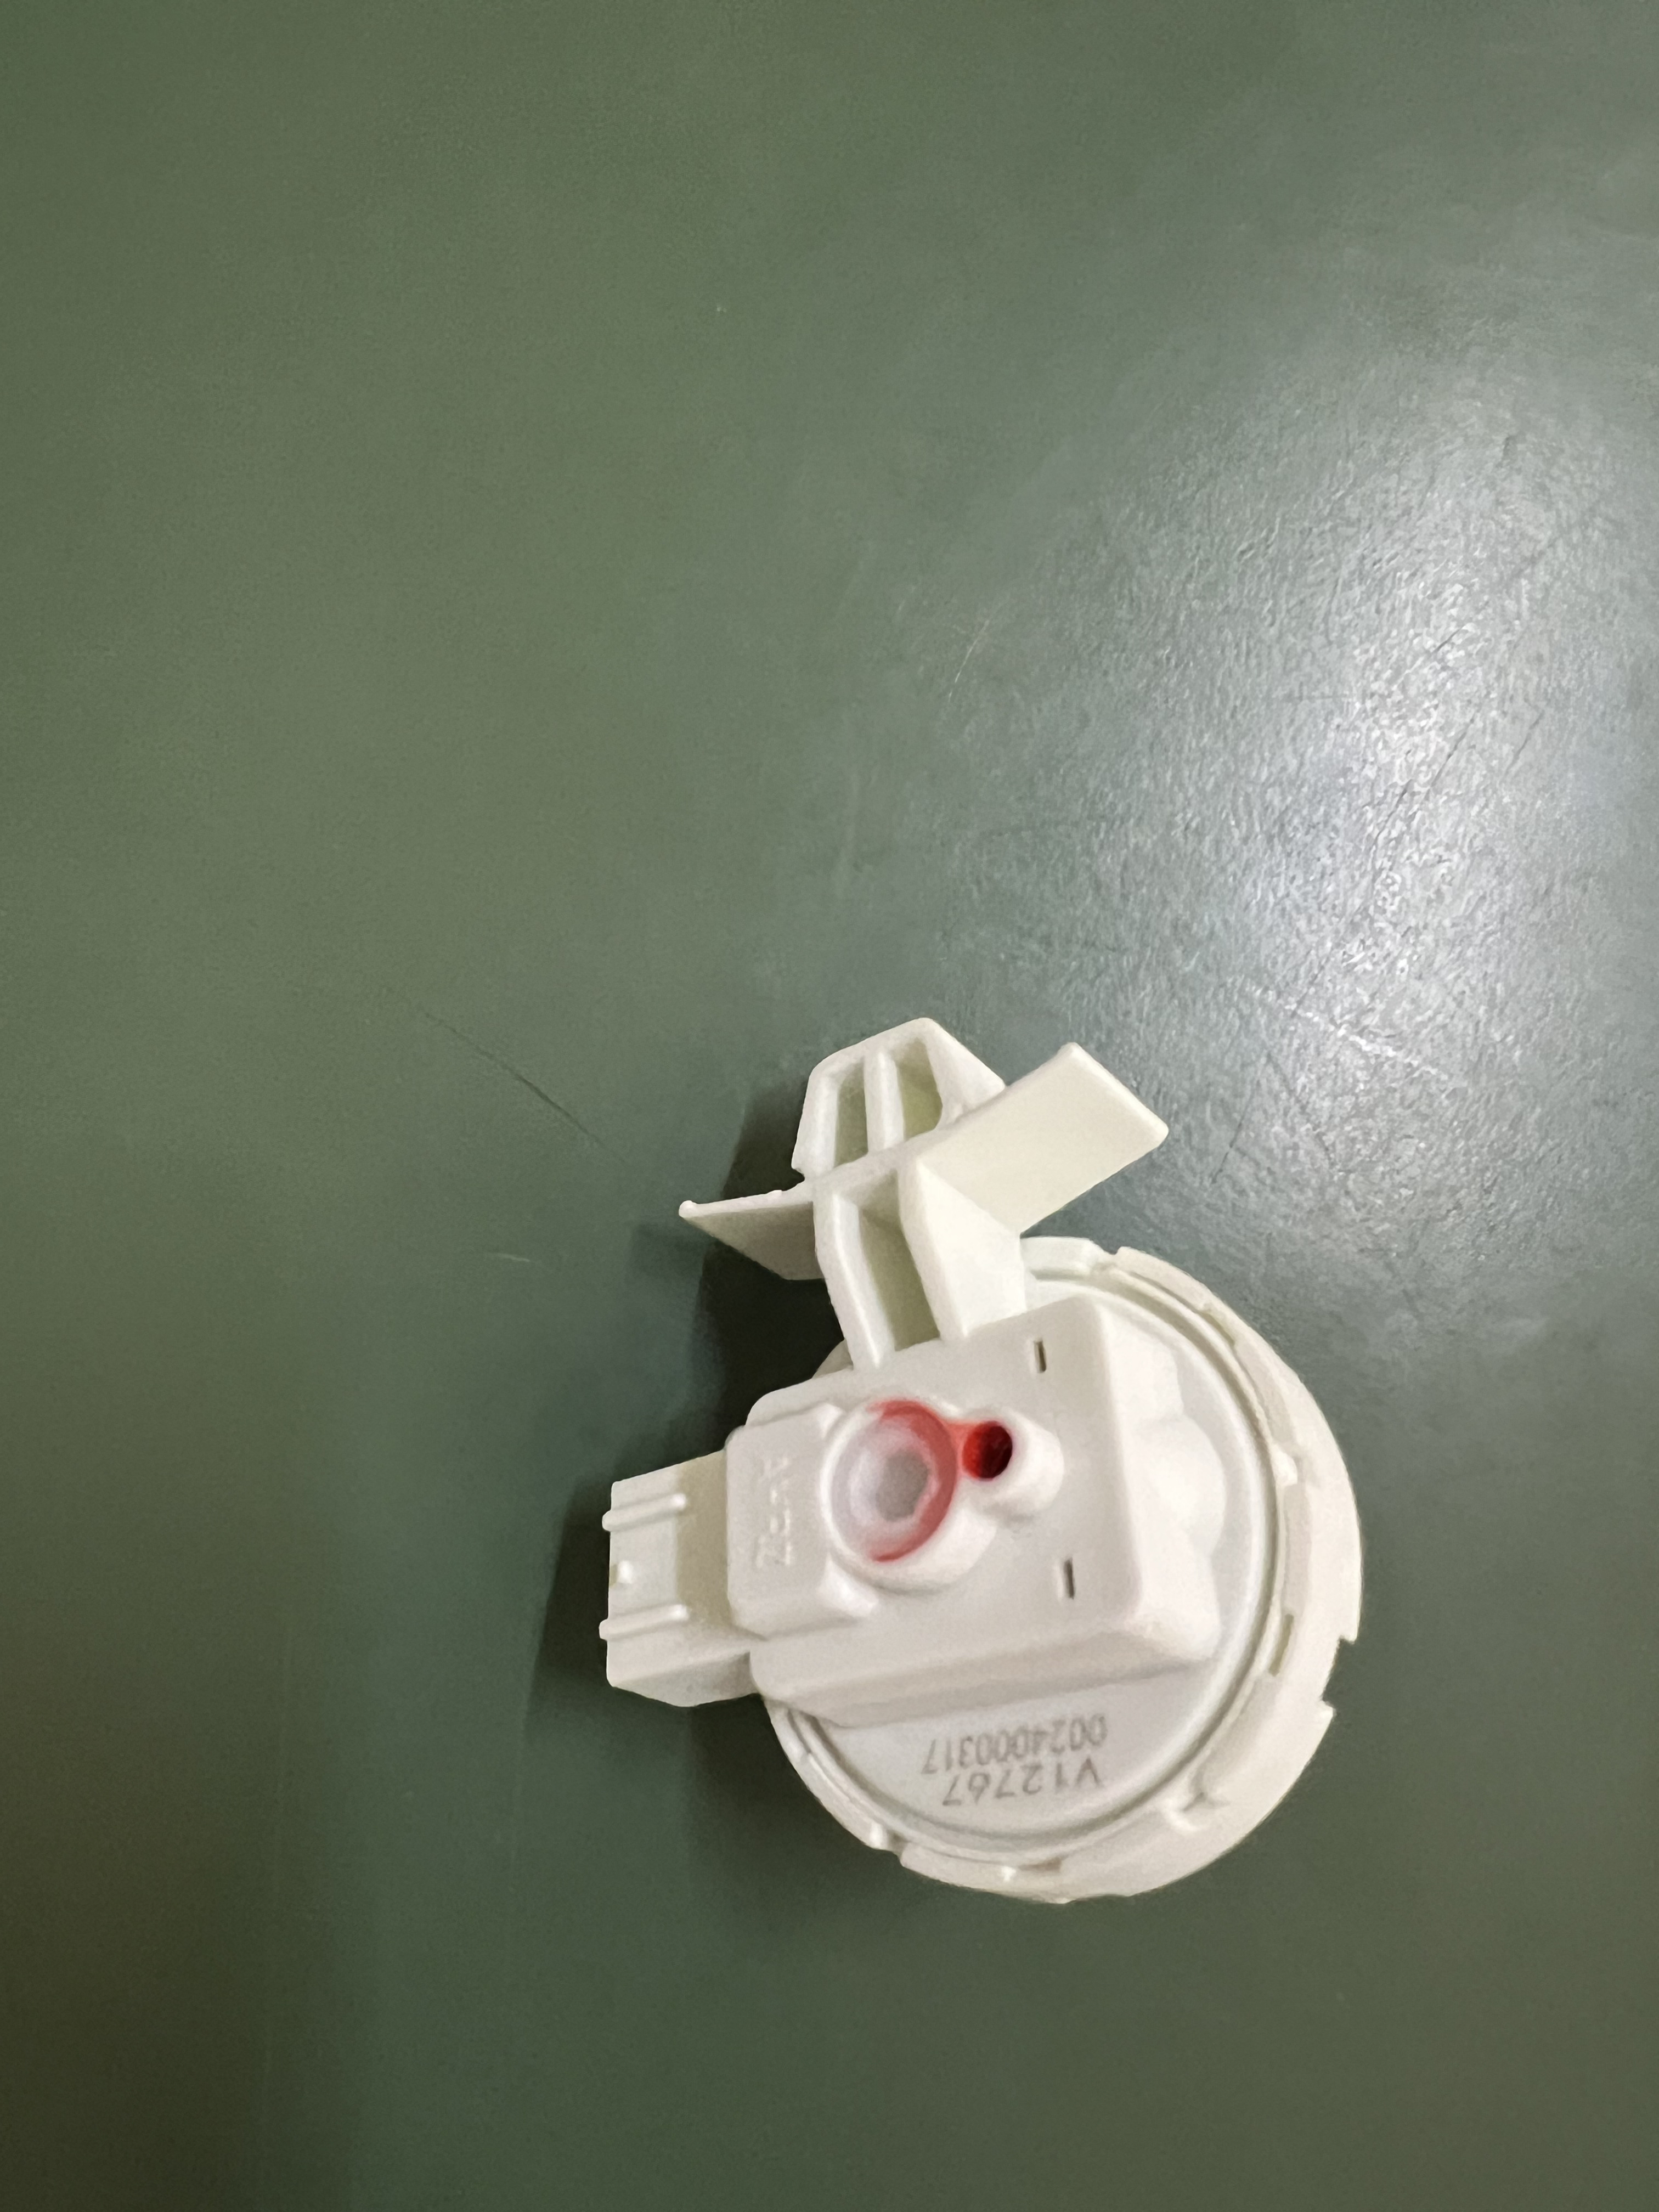pressure_switch_2: (573, 1010, 1410, 1972)
